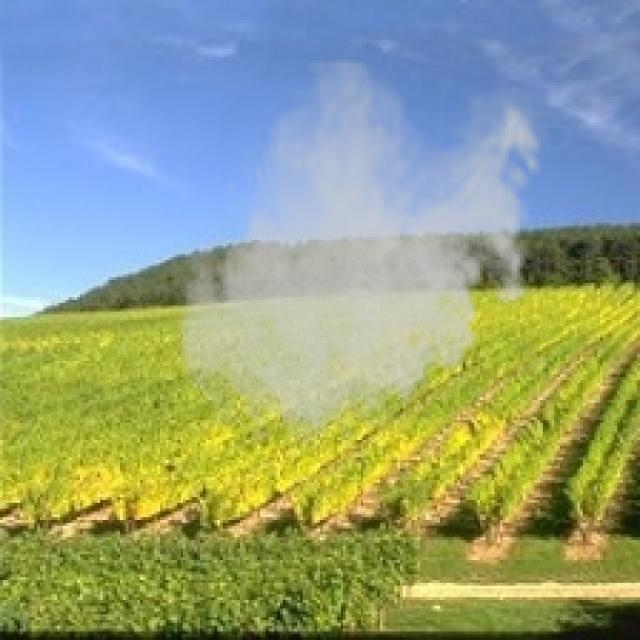smoke: (169, 57, 554, 457)
